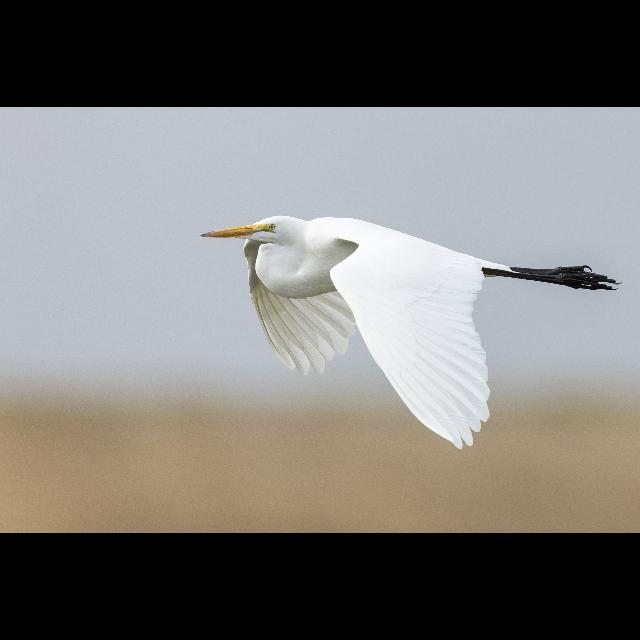egret: (202, 215, 618, 439)
